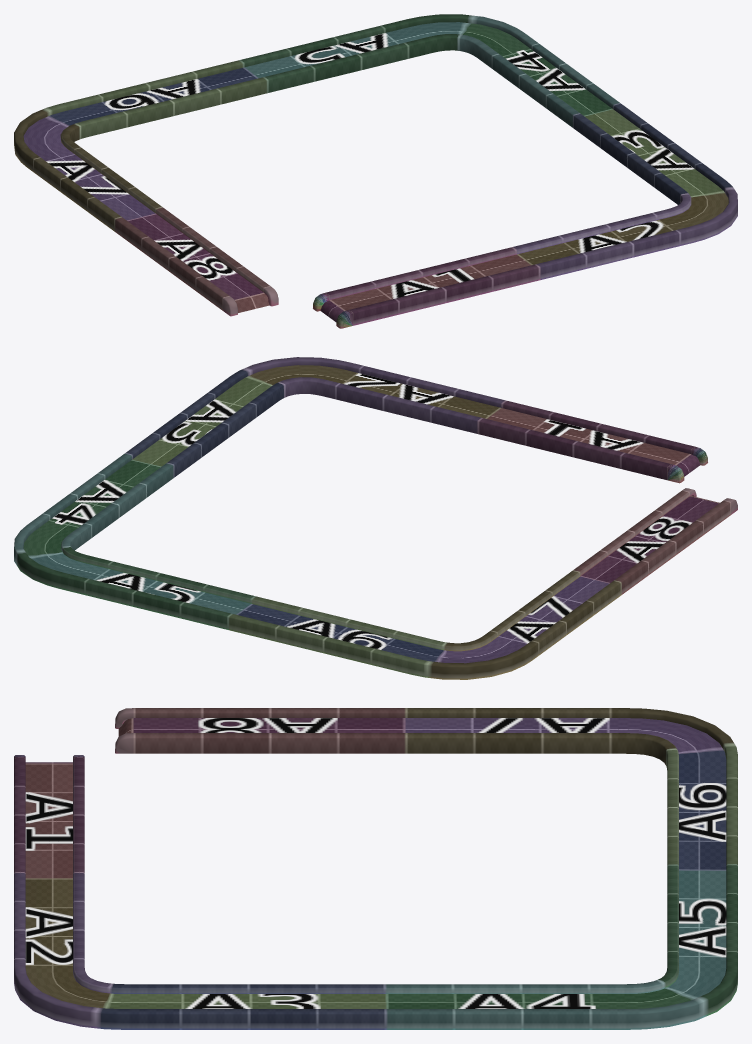
The model's file is track.glb.
The picture shows the model from 3 angles, top to bottom: view 1: azimuth 30°, elevation 25°; view 2: azimuth 150°, elevation 25°; view 3: azimuth 270°, elevation 25°; orthographic projection. The views are drawn at different scales.
Visible parts, largest first — view 1: Static, Moving; view 2: Static, Moving; view 3: Static, Moving.
Part boxes in pixels (left/top/right/bottom): Static: left=14, top=14, right=737, bottom=328; Moving: left=23, top=22, right=728, bottom=322; Static: left=14, top=357, right=737, bottom=679; Moving: left=23, top=365, right=719, bottom=663; Static: left=14, top=708, right=737, bottom=1029; Moving: left=25, top=718, right=726, bottom=1008.
Bounding box in the file's own units: 17.16 × 0.4282 × 17.16.
Materials: 1 (1 with a texture image).
